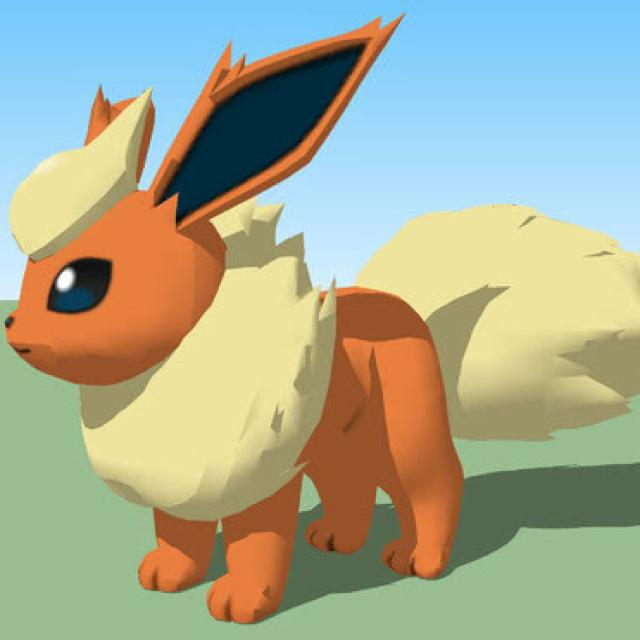Flareon: (4, 25, 460, 581)
